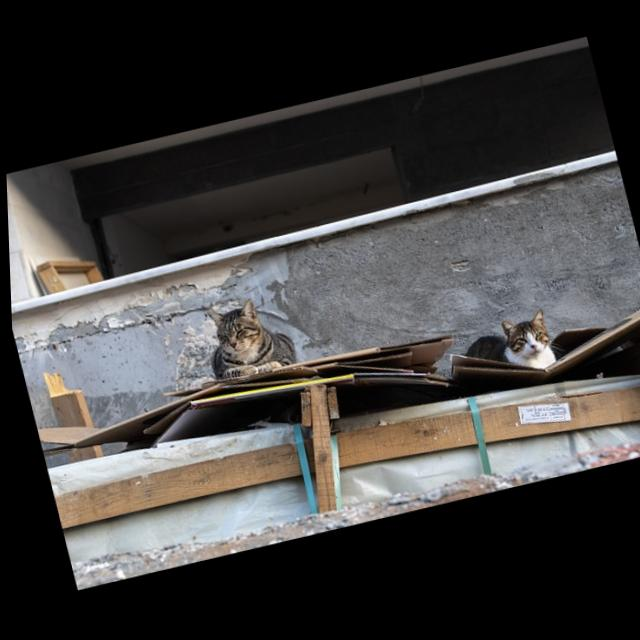animals: (209, 303, 290, 380), (493, 309, 557, 375)
